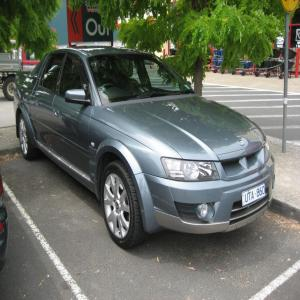Vehicle-registration-plate: (242, 184, 266, 208)
